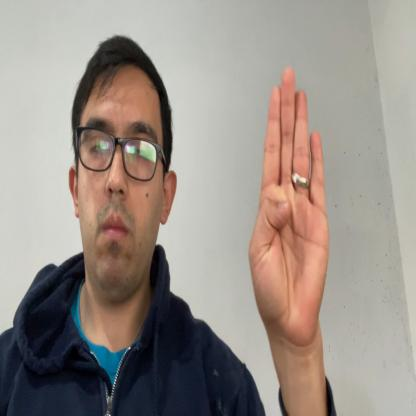B: (248, 63, 332, 342)
